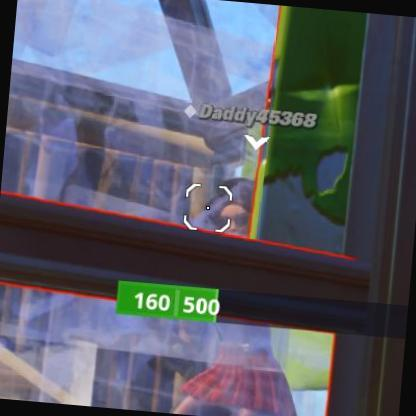person: (180, 184, 307, 416)
